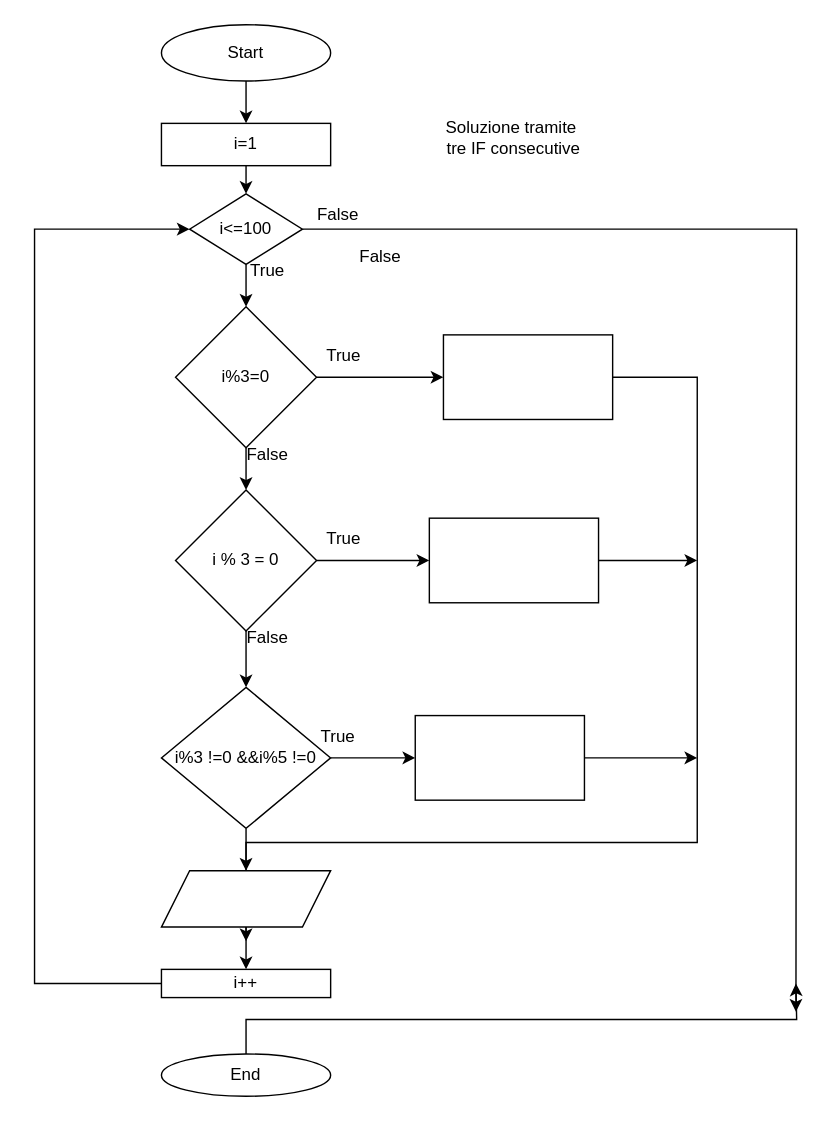
Image size: 833x1121. Some labels were removed from this diagram. The shapes that lost their labels are listed below. From the top down, each one's centre as x and y in pixels, then its label:
pixel 527 376: risultato += 'Fizz'
pixel 513 560: risultato += 'Buzz'
pixel 499 757: risultato += i
pixel 245 898: stampa: risultato
